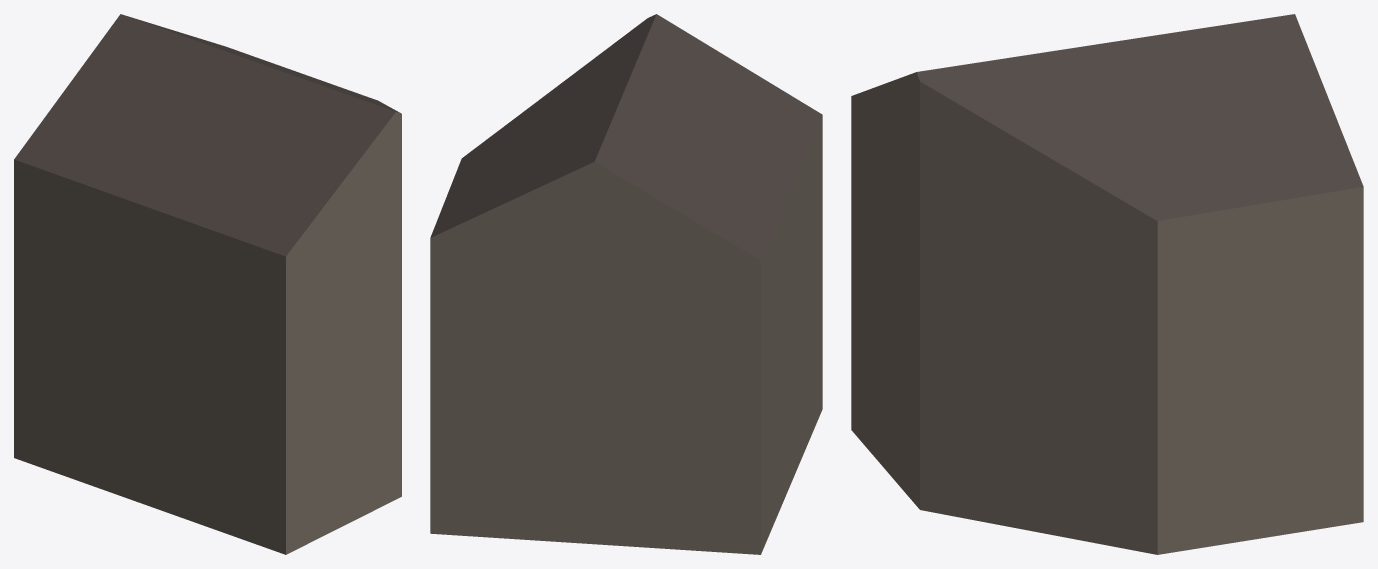
3 renders of one model, left to right at view 1: azimuth 30°, elevation 25°; view 2: azimuth 150°, elevation 25°; view 3: azimuth 270°, elevation 25°, orthographic. The views are drawn at different scales.
Visible parts, largest first — view 1: HP-w1198847863; view 2: HP-w1198847863; view 3: HP-w1198847863.
Boxes of the visible parts, box(x1,y1,x2,y2) form: HP-w1198847863: box(14, 14, 401, 554); HP-w1198847863: box(430, 14, 822, 554); HP-w1198847863: box(851, 14, 1363, 554).
Bounding box in the file's own units: 7.02 × 7.8 × 8.35.
